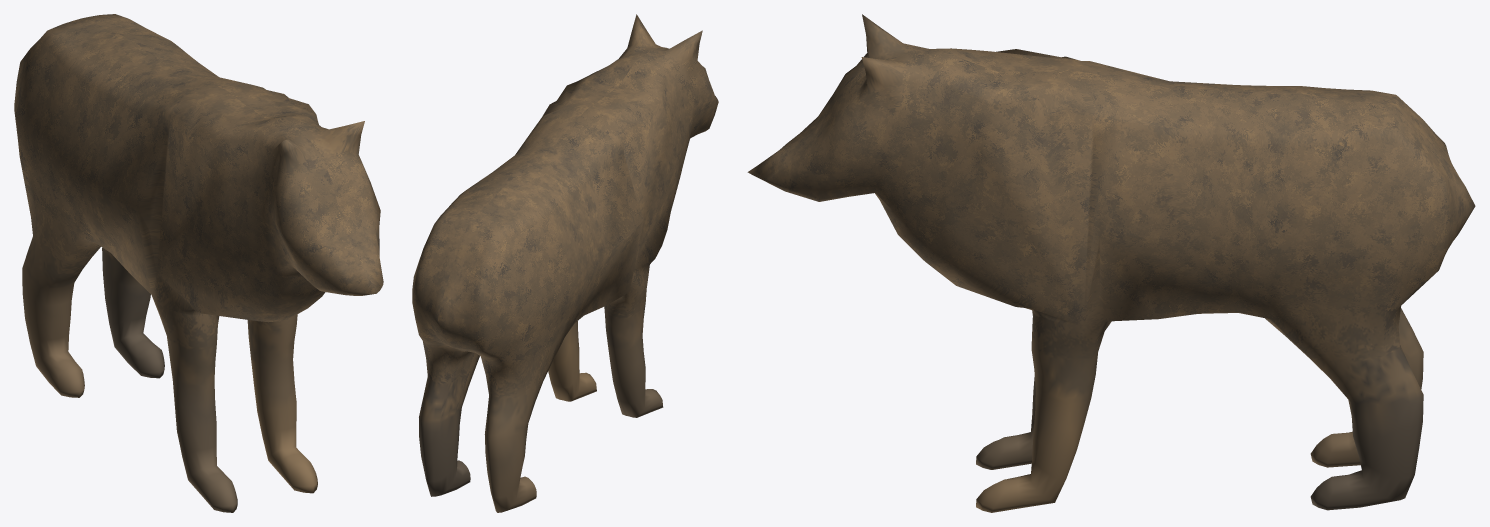
File: piesblend_000001.obj
3 views of the same model, side by side, from view 1: azimuth 30°, elevation 25°; view 2: azimuth 150°, elevation 25°; view 3: azimuth 270°, elevation 25° (orthographic). The views are drawn at different scales.
Parts seen in each view (by area): view 1: Cube; view 2: Cube; view 3: Cube.
Boxes of the visible parts, x1,y1,x2,y2 form: Cube: (14, 14, 383, 512); Cube: (412, 14, 718, 512); Cube: (747, 14, 1475, 512).
Size of the model in its own units: 2.55 by 6.14 by 9.
1 material, 1 textured.
